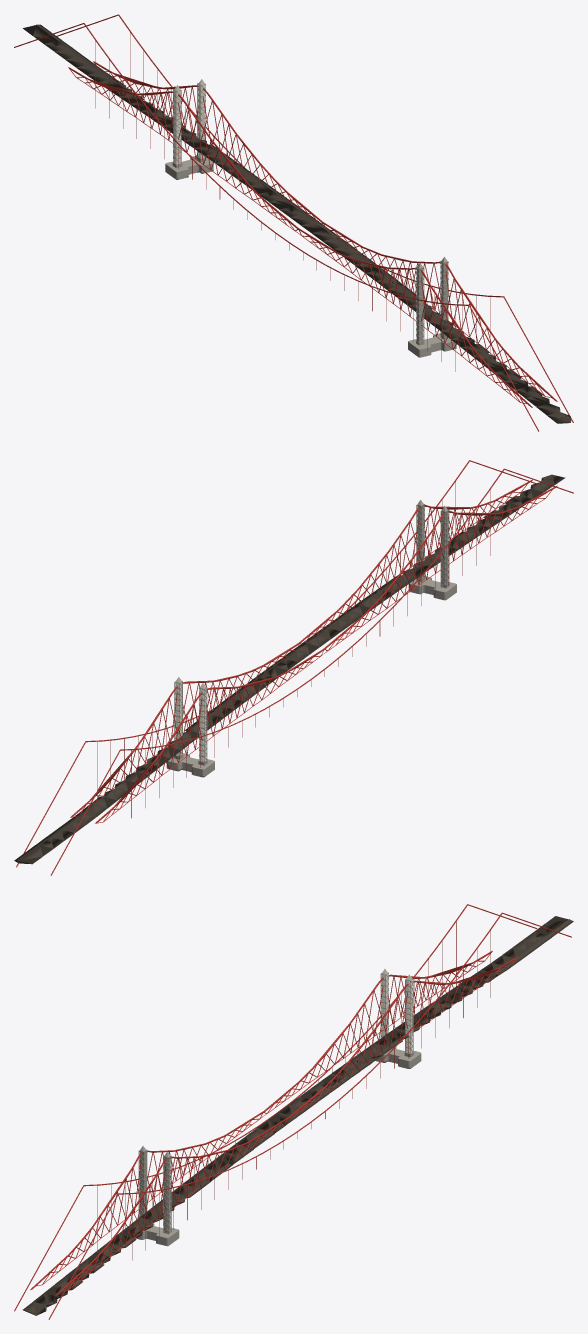
Rendered from footbridge.glb.
3 views of the same model, one above another, from view 1: azimuth 30°, elevation 25°; view 2: azimuth 150°, elevation 25°; view 3: azimuth 330°, elevation 25° (orthographic).
Visible parts, largest first — view 1: br_red, br_deck, br_concrete; view 2: br_red, br_deck, br_concrete; view 3: br_red, br_deck, br_concrete.
Part boxes in pixels (x1,y1,x2,y2): br_red: (14,14,573,431); br_deck: (23,24,571,423); br_concrete: (165,79,456,357); br_red: (16,460,573,875); br_deck: (14,474,565,864); br_concrete: (166,500,456,777); br_red: (14,904,571,1319); br_deck: (23,916,573,1315); br_concrete: (135,969,421,1246).
Size of the model in its own units: 6.28 by 14.26 by 155.
